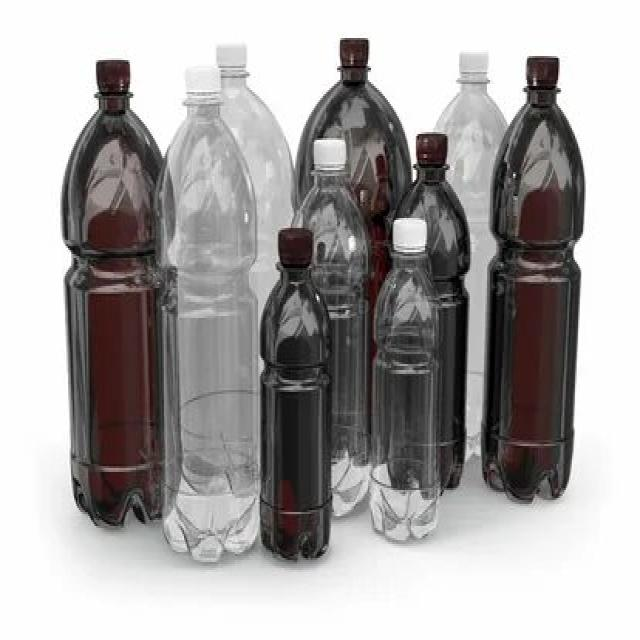brown: (62, 88, 182, 527), (483, 82, 584, 500), (260, 258, 332, 562), (296, 64, 404, 138), (397, 158, 464, 218)
